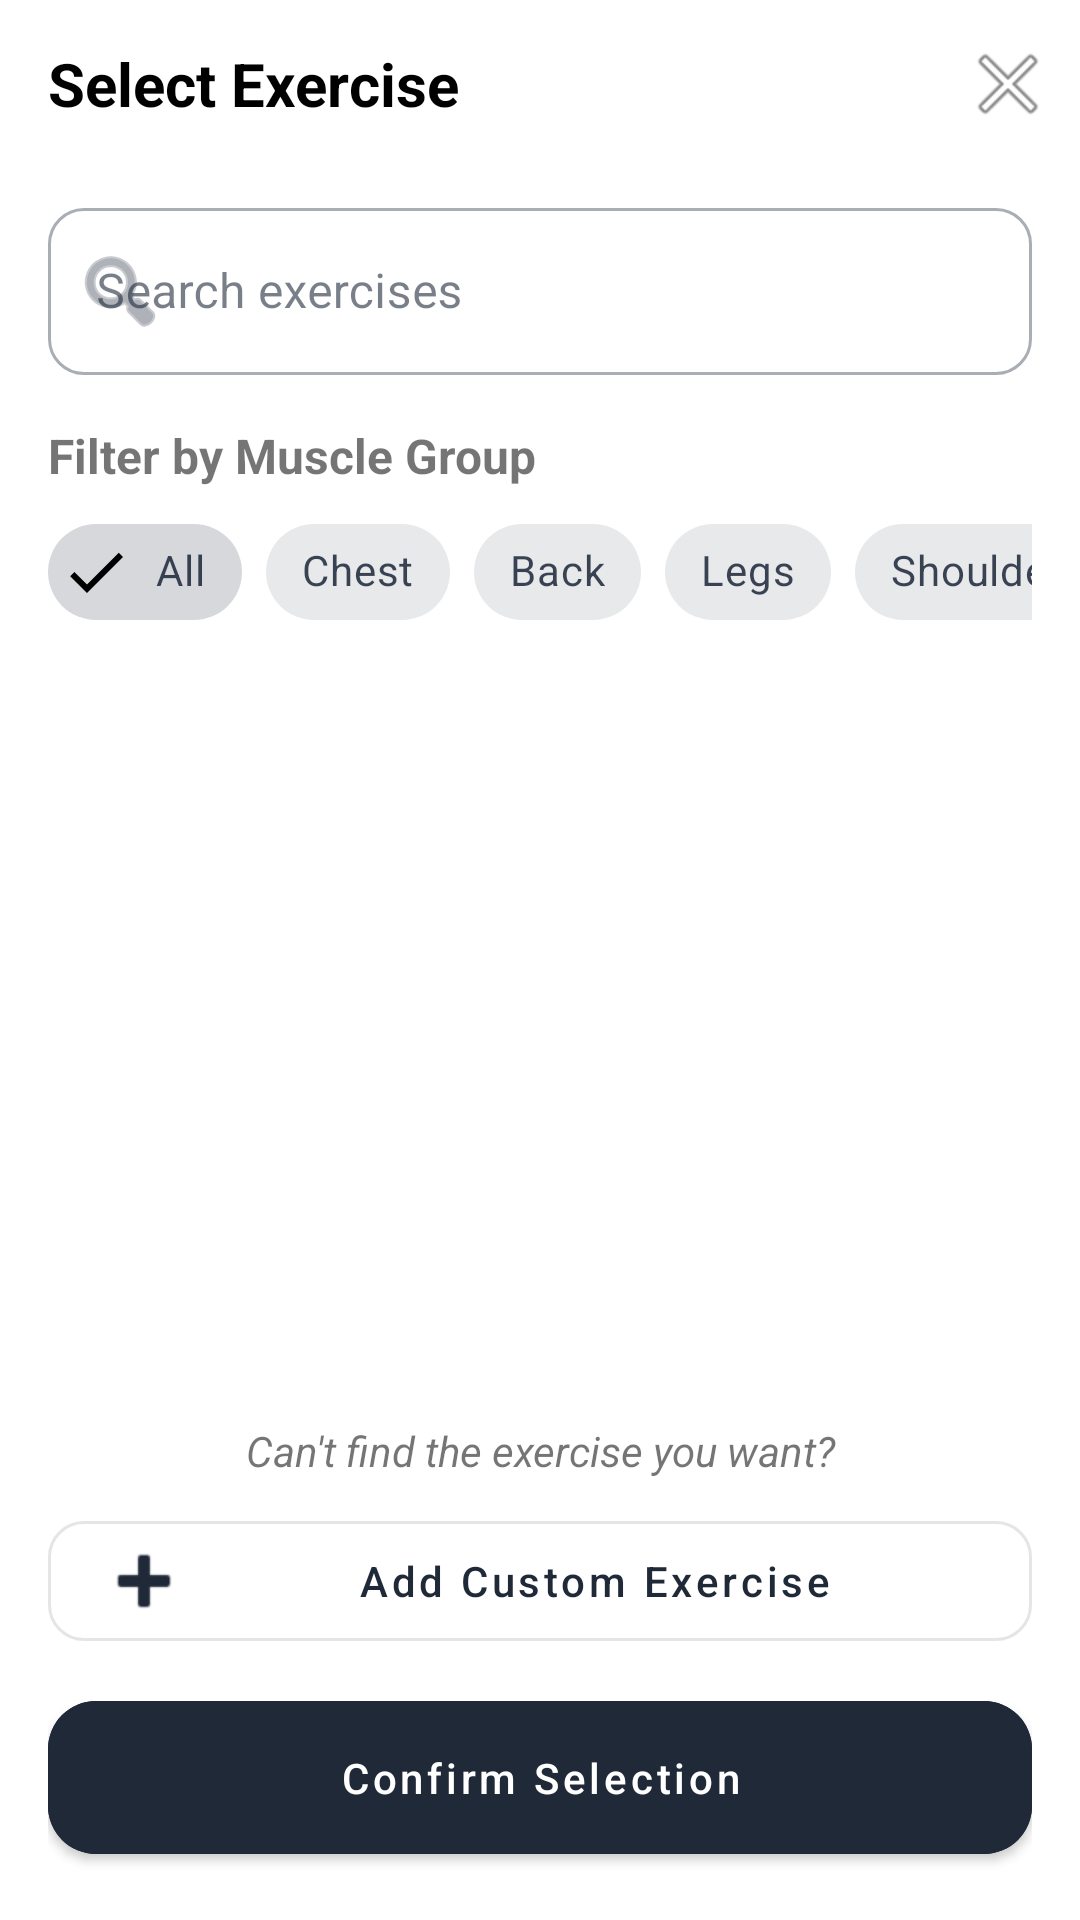

Icons on this 1080px×1920px Android screen, each with its box as box=[x1, y1, x2, y2]:
Close: box=[978, 54, 1038, 114]
